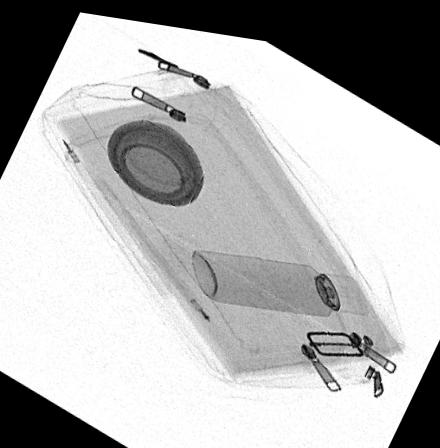Sprayer: (191, 242, 365, 305)
